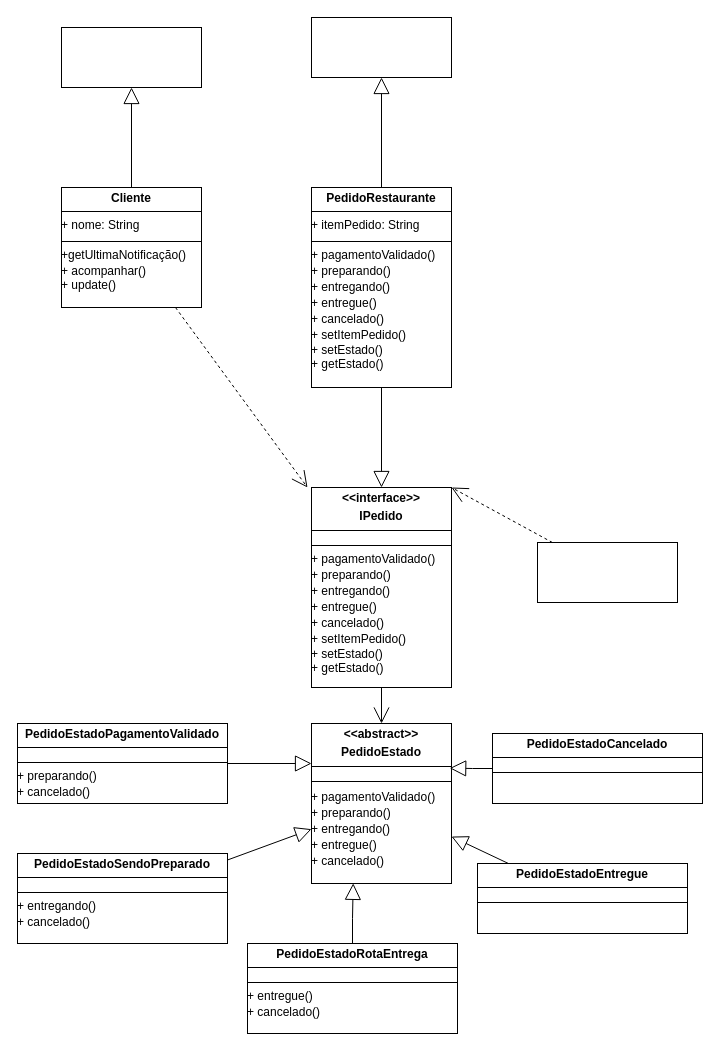
This 720x1051 diagram has some shape labels left out. The shapes that lost their labels are listed below. From the top down, each one's centre as x and y in pixels, then its label:
At point 131,57: "Observer".
At point 381,47: "Observable".
At point 607,572: "PedidoFactory + obterPedido()".
